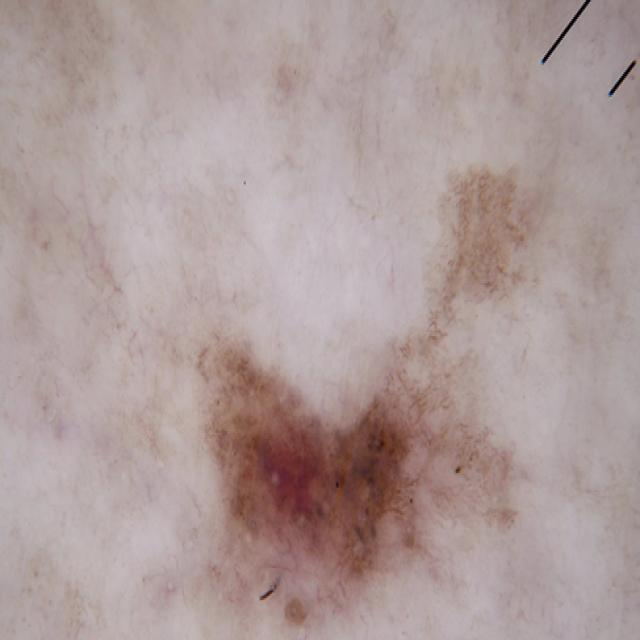Keratosis: (157, 123, 600, 640)
